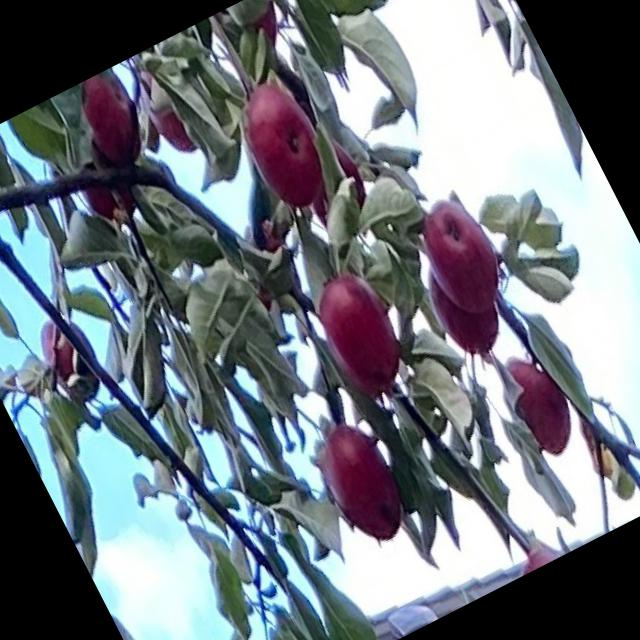Apples: (226, 77, 340, 215), (306, 414, 418, 550), (306, 265, 415, 397), (410, 193, 511, 316), (491, 344, 587, 466), (68, 66, 158, 172), (286, 134, 376, 233), (422, 258, 509, 360), (30, 308, 114, 410), (133, 66, 203, 160), (213, 0, 287, 62), (504, 534, 564, 579)
